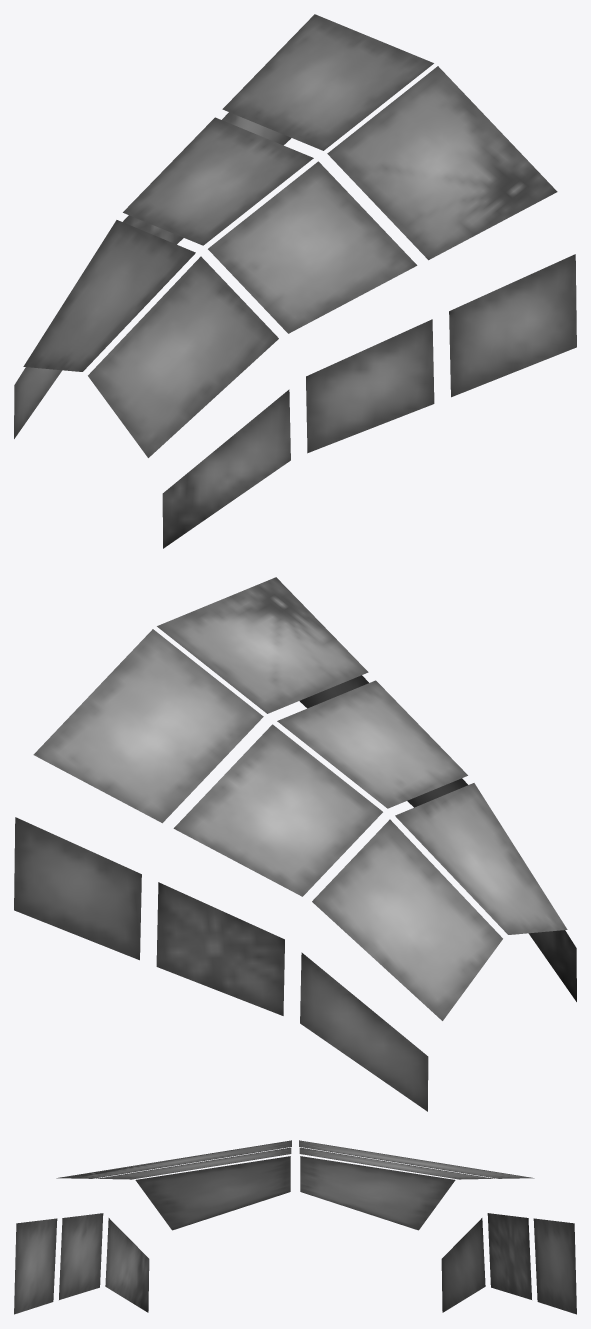
File: ShipWindows.fbx
3 renders of one model, top to bottom at view 1: azimuth 30°, elevation 25°; view 2: azimuth 150°, elevation 25°; view 3: azimuth 270°, elevation 25°, orthographic.
Parts seen in each view (by area): view 1: ShipWindows; view 2: ShipWindows; view 3: ShipWindows.
Part boxes in pixels (bbox=[...]): ShipWindows: bbox=[14, 14, 576, 548]; ShipWindows: bbox=[14, 577, 576, 1111]; ShipWindows: bbox=[14, 1140, 576, 1314].
Bounding box in the file's own units: 143 × 134 × 202.
